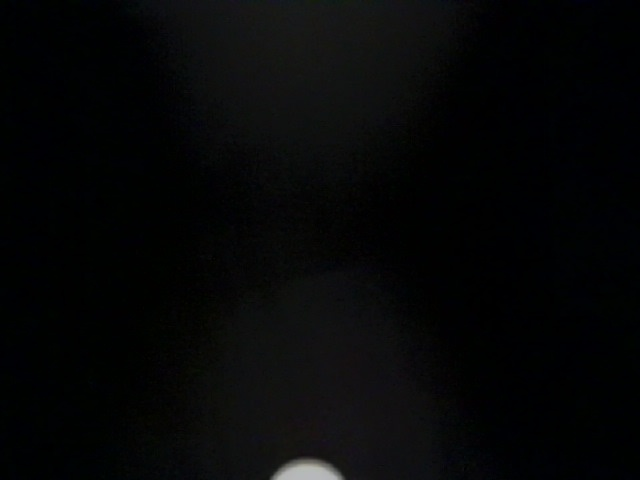YHLJ: (177, 178, 292, 235)
